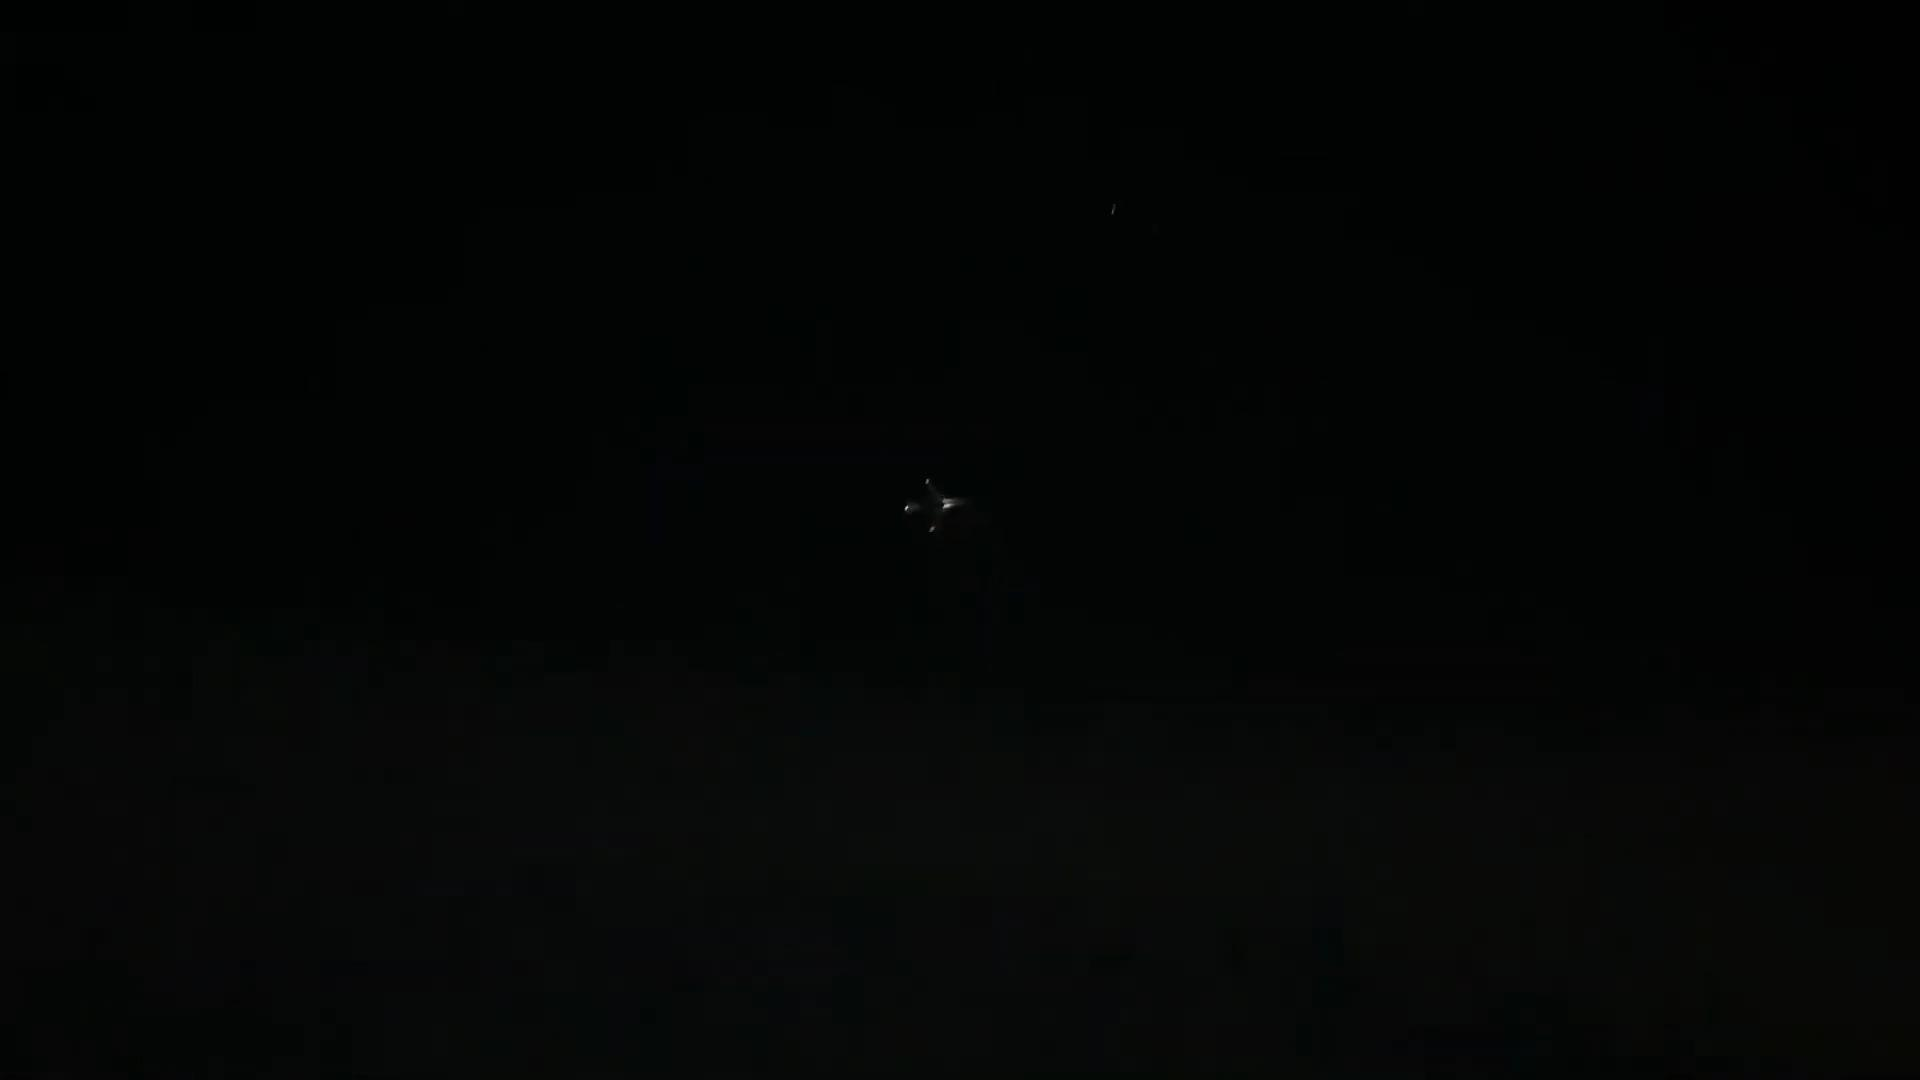Plane: (851, 459, 993, 554)
